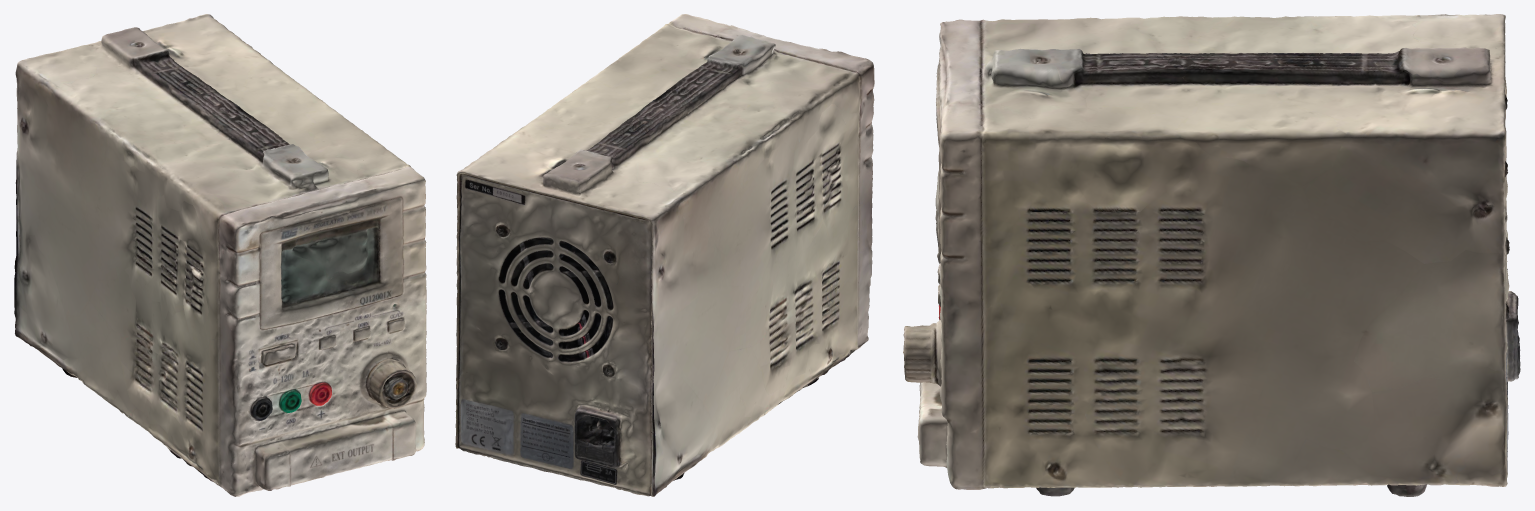
File: electrical_dc_power_supply.glb
3 renders of one model, left to right at view 1: azimuth 30°, elevation 25°; view 2: azimuth 150°, elevation 25°; view 3: azimuth 270°, elevation 25°, orthographic. The views are drawn at different scales.
Parts seen in each view (by area): view 1: textured; view 2: textured; view 3: textured.
Part boxes in pixels (bbox=[...]): textured: bbox=[14, 14, 426, 496]; textured: bbox=[455, 14, 874, 496]; textured: bbox=[903, 14, 1520, 496].
Bounding box in the file's own units: 0.1914 × 0.2788 × 0.4.
Materials: 1 (1 with a texture image).
